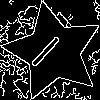I: (28, 26, 70, 70)
